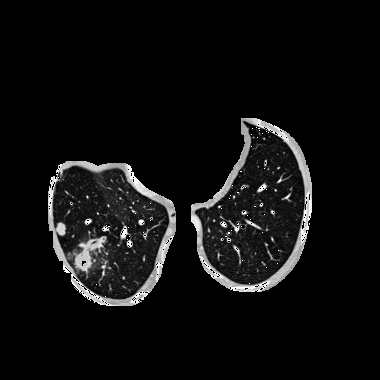PN: (75, 250, 93, 268)
